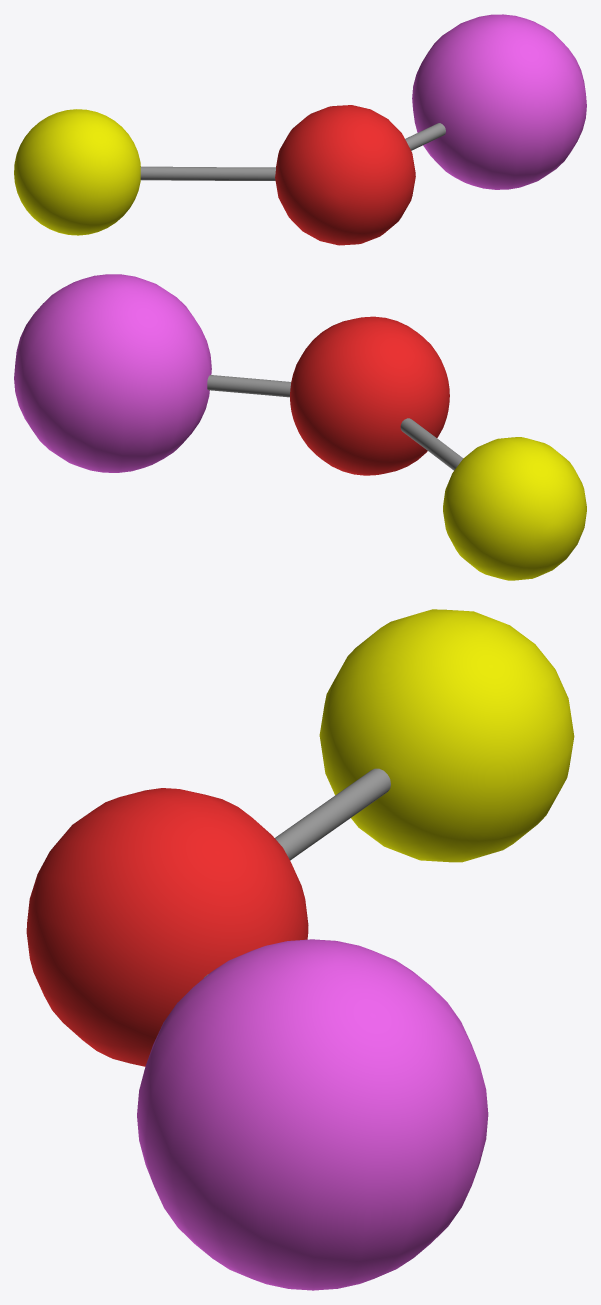
Rendered from LiOH.fbx.
3 views of the same model, one above another, from view 1: azimuth 30°, elevation 25°; view 2: azimuth 150°, elevation 25°; view 3: azimuth 270°, elevation 25° (orthographic). The views are drawn at different scales.
Visible parts, largest first — view 1: LiOH; view 2: LiOH; view 3: LiOH.
Boxes of the visible parts, left/top/right/bottom form: LiOH: left=14, top=14, right=586, bottom=245; LiOH: left=14, top=274, right=586, bottom=580; LiOH: left=26, top=609, right=574, bottom=1290.
Bounding box in the file's own units: 7.85 × 2.3 × 3.58.
